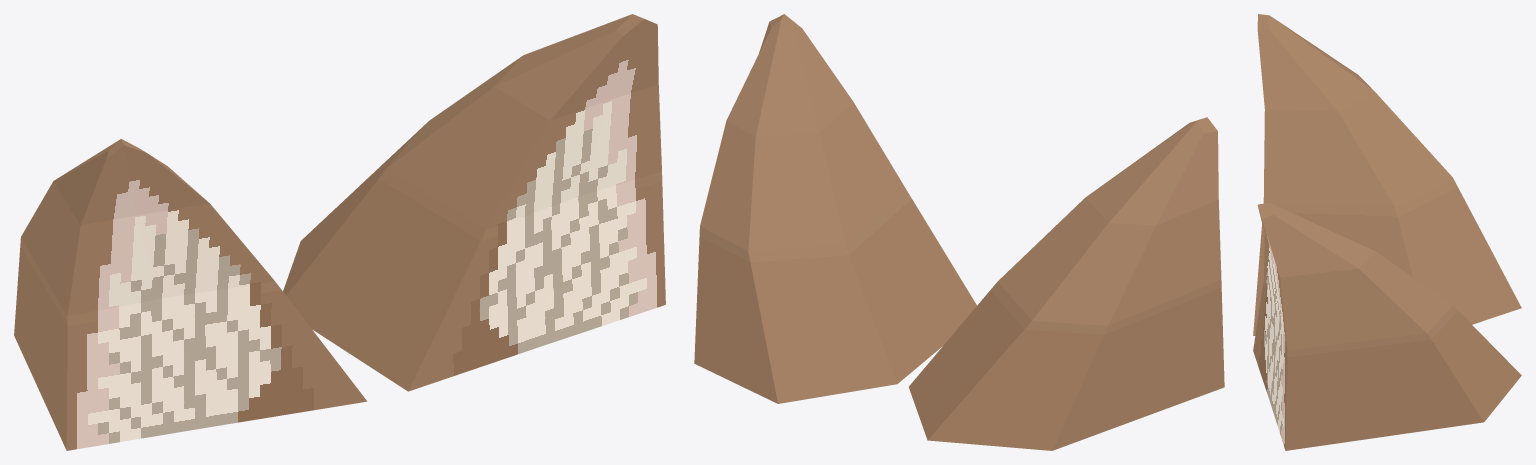
File: CatEars.glb
The picture shows the model from 3 angles, left to right: view 1: azimuth 30°, elevation 25°; view 2: azimuth 150°, elevation 25°; view 3: azimuth 270°, elevation 25°; orthographic projection. The views are drawn at different scales.
Parts seen in each view (by area): view 1: CatEears; view 2: CatEears; view 3: CatEears.
Boxes of the visible parts, x1,y1,x2,y2 form: CatEears: (14, 14, 665, 450); CatEears: (694, 14, 1224, 450); CatEears: (1253, 14, 1521, 450).
Bounding box in the file's own units: 0.1822 × 0.0907 × 0.0943.
1 material, 1 textured.
